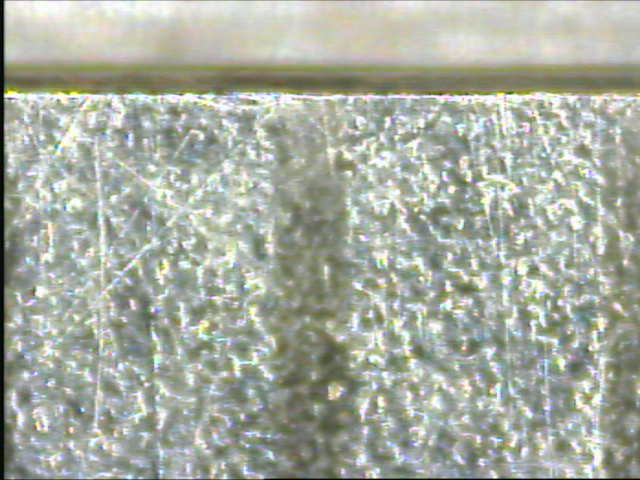line: (267, 102, 355, 472)
